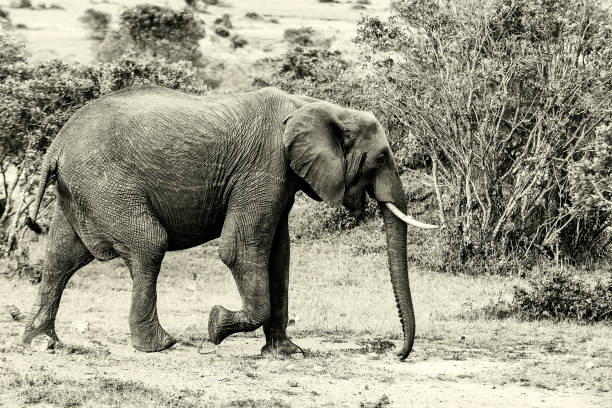africanelephant: (270, 101, 440, 233)
